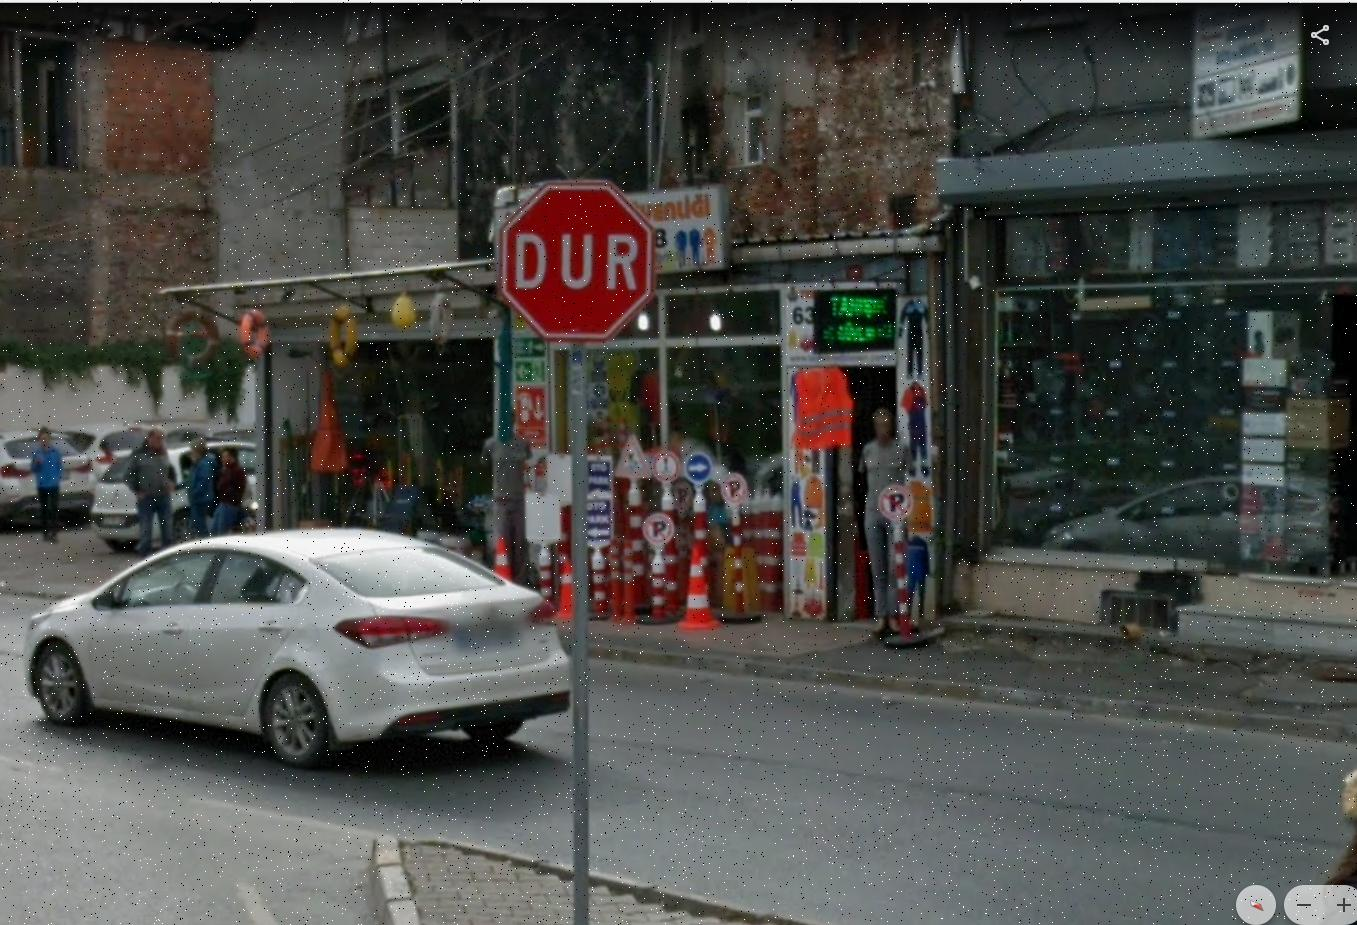stop: (497, 187, 650, 335)
